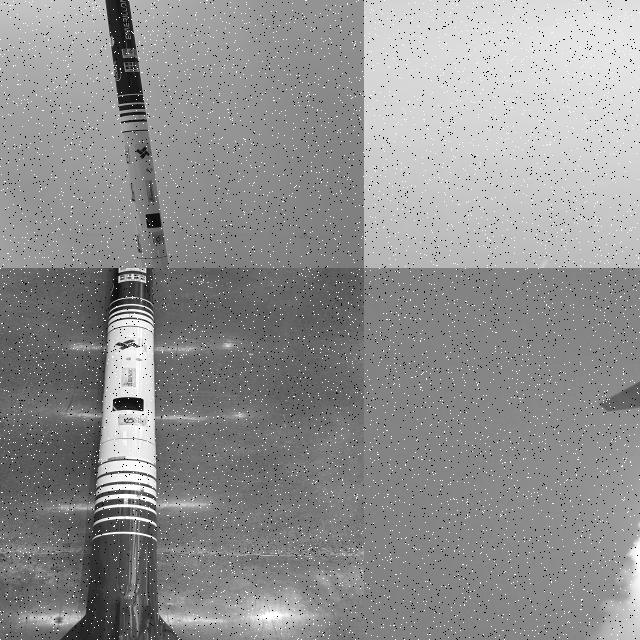Rocket: (59, 268, 183, 640), (105, 0, 170, 268), (598, 268, 640, 425), (521, 258, 548, 268)
